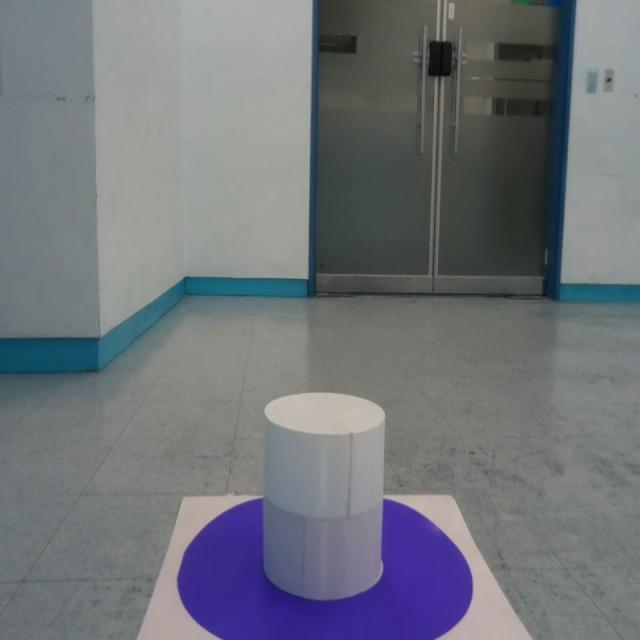cylinder: (262, 392, 387, 600)
